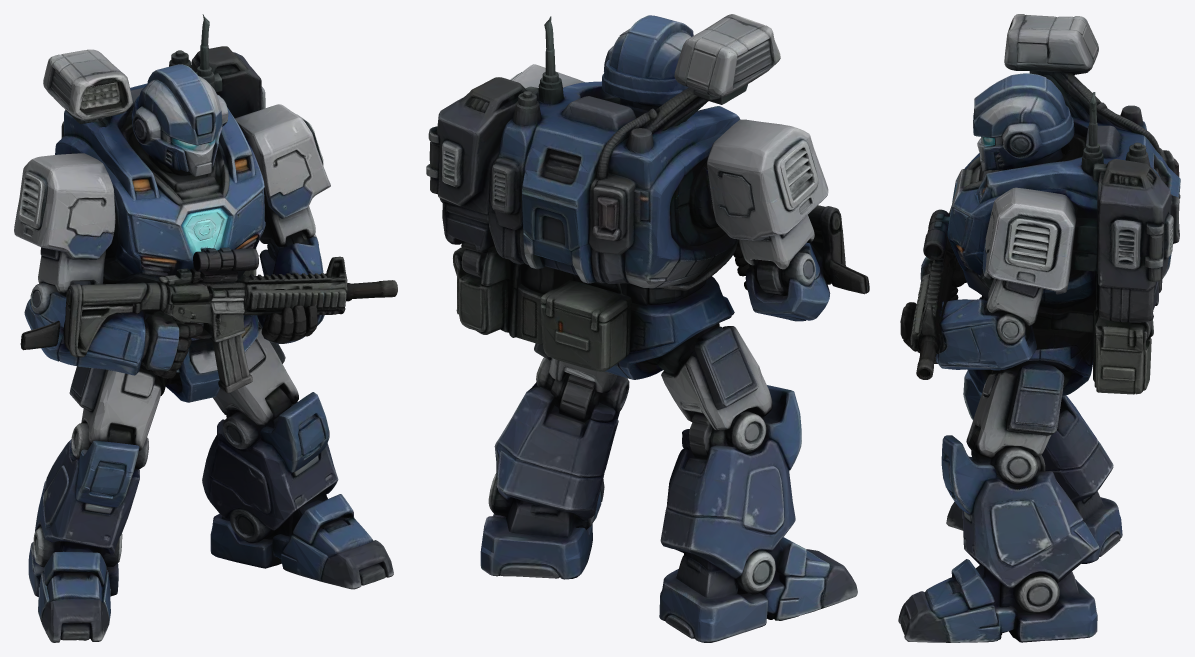
The model's file is citadel-robot.glb.
3 views of the same model, side by side, from view 1: azimuth 30°, elevation 25°; view 2: azimuth 150°, elevation 25°; view 3: azimuth 270°, elevation 25° (orthographic). The views are drawn at different scales.
Visible parts, largest first — view 1: geometry_0; view 2: geometry_0; view 3: geometry_0.
Part boxes in pixels (x1,y1,x2,y2): geometry_0: [14, 14, 397, 642]; geometry_0: [426, 14, 869, 642]; geometry_0: [898, 14, 1180, 642].
Bounding box in the file's own units: 0.6728 × 0.9996 × 0.4906.
1 material, 1 textured.
